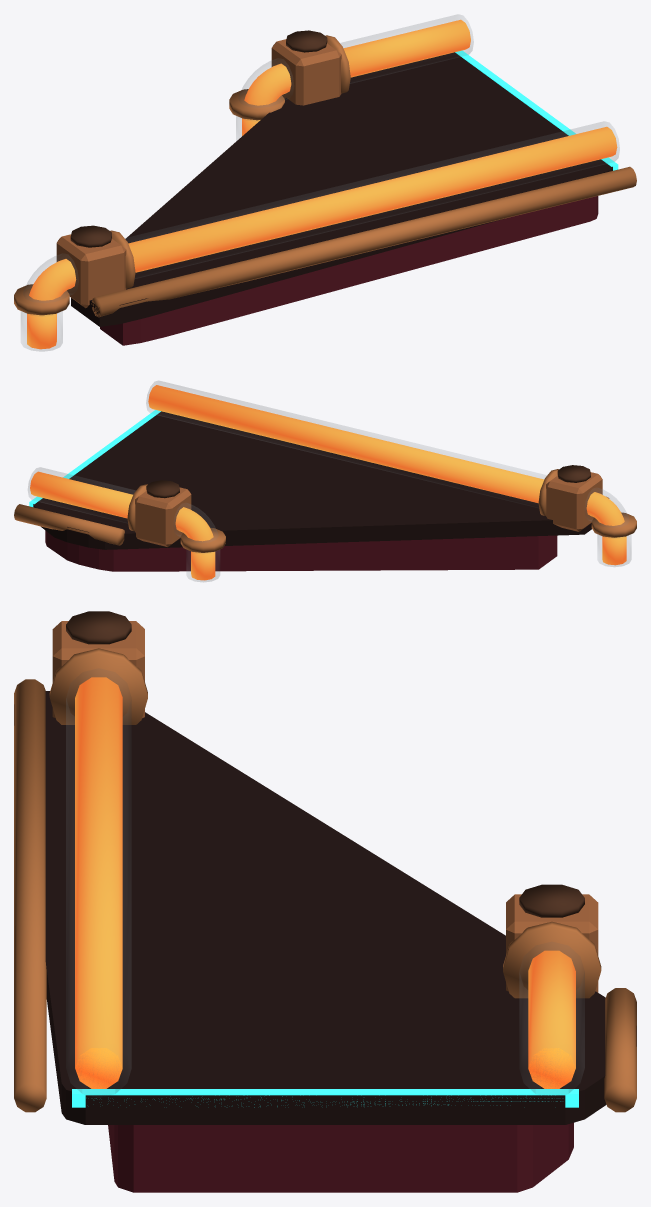
File: Pier_Angled_45.glb
The picture shows the model from 3 angles, top to bottom: view 1: azimuth 30°, elevation 25°; view 2: azimuth 150°, elevation 25°; view 3: azimuth 270°, elevation 25°; orthographic projection. The views are drawn at different scales.
Visible parts, largest first — view 1: CP_Pier_Angled_45; view 2: CP_Pier_Angled_45; view 3: CP_Pier_Angled_45.
Part boxes in pixels (bbox=[...]): CP_Pier_Angled_45: bbox=[14, 14, 636, 351]; CP_Pier_Angled_45: bbox=[14, 381, 636, 581]; CP_Pier_Angled_45: bbox=[14, 611, 636, 1192].
Size of the model in its own units: 7.11 by 1.31 by 4.18.
